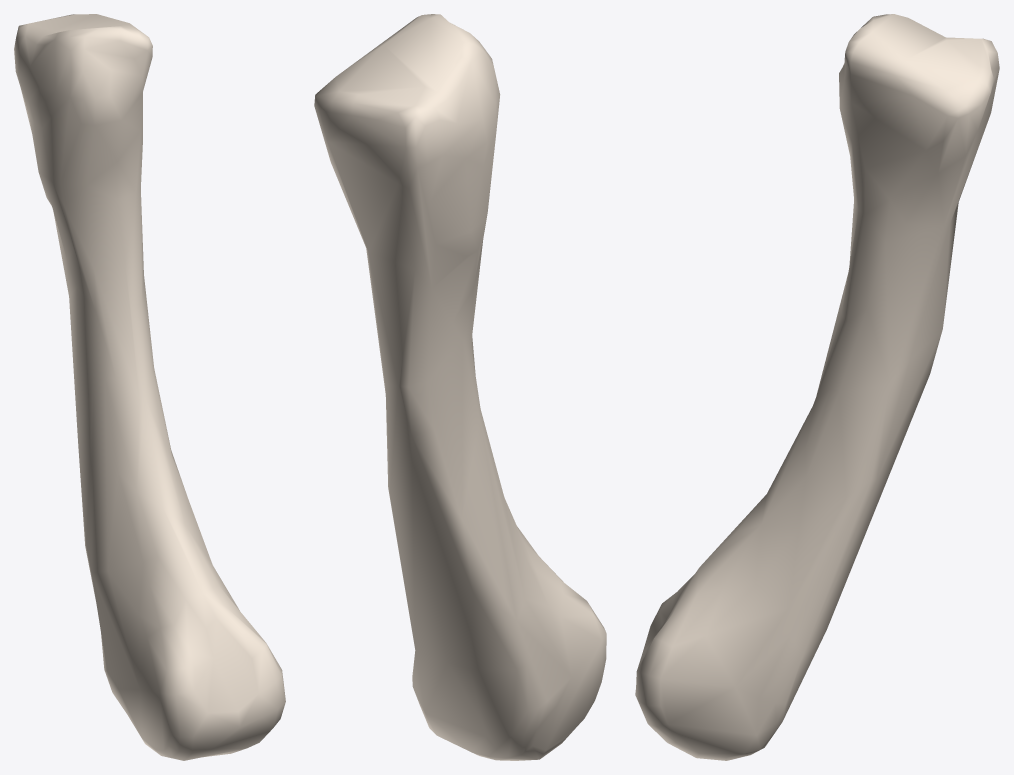
The model's file is right_metacarpal_4.glb.
3 views of the same model, side by side, from view 1: azimuth 30°, elevation 25°; view 2: azimuth 150°, elevation 25°; view 3: azimuth 270°, elevation 25° (orthographic). The views are drawn at different scales.
Visible parts, largest first — view 1: 4th metacarpal bone.r; view 2: 4th metacarpal bone.r; view 3: 4th metacarpal bone.r.
Boxes of the visible parts, box(x1,y1,x2,y2) form: 4th metacarpal bone.r: box(14, 14, 285, 760); 4th metacarpal bone.r: box(314, 14, 606, 760); 4th metacarpal bone.r: box(635, 14, 999, 760).
Bounding box in the file's own units: 0.00721 × 0.0359 × 0.0166.
